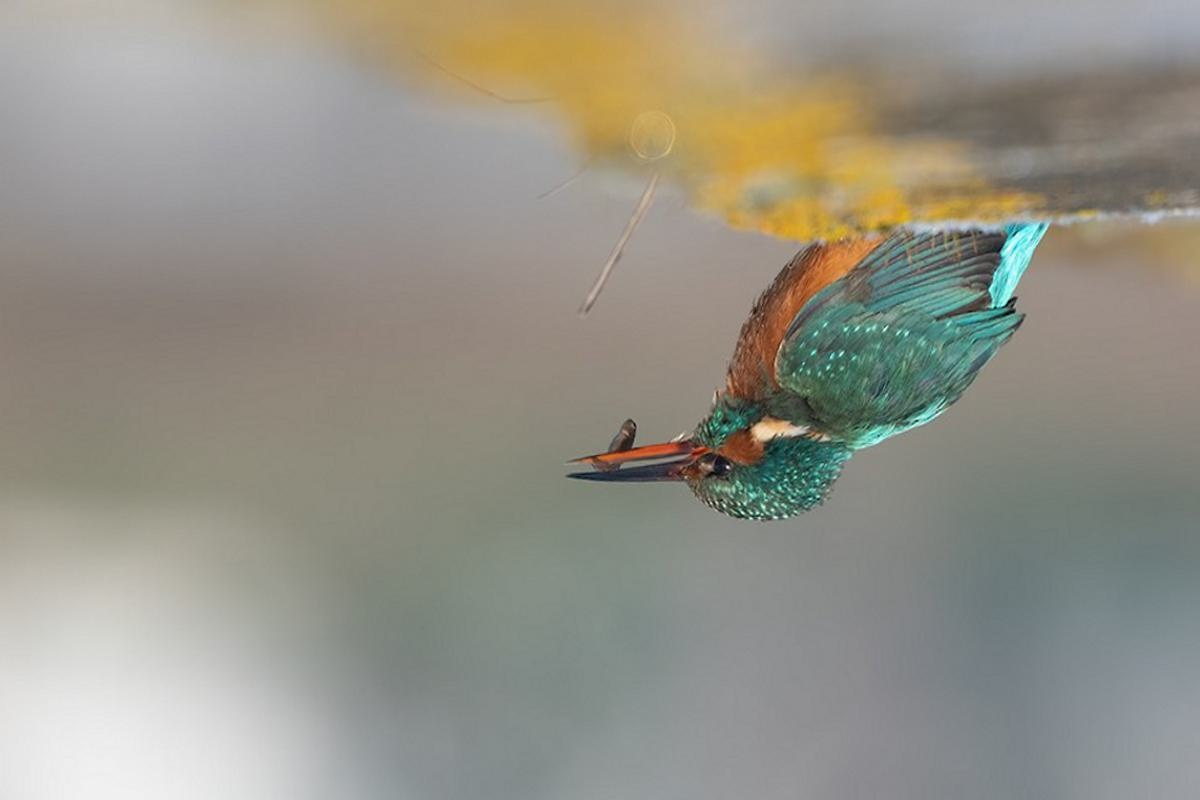kingfisher: (550, 198, 1071, 550)
